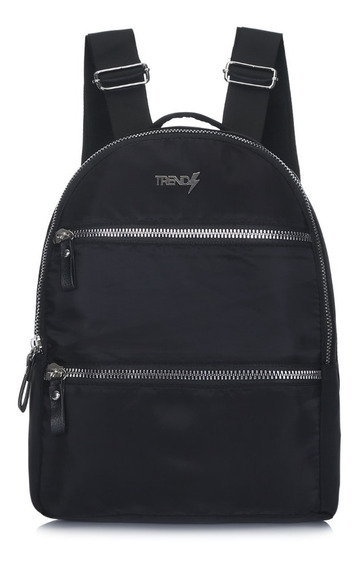cartera: (17, 24, 344, 524)
